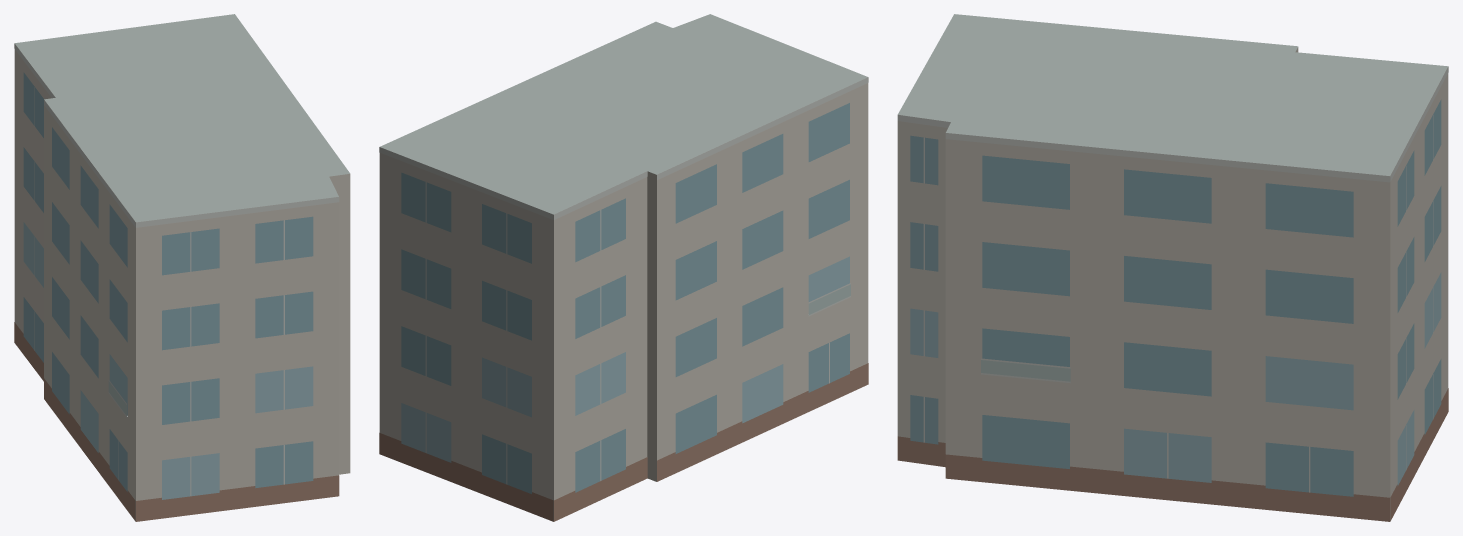
The model's file is survey-upis-32857716.glb.
3 views of the same model, side by side, from view 1: azimuth 30°, elevation 25°; view 2: azimuth 150°, elevation 25°; view 3: azimuth 270°, elevation 25° (orthographic). The views are drawn at different scales.
Parts seen in each view (by area): view 1: survey-upis-32857716.tmp; view 2: survey-upis-32857716.tmp; view 3: survey-upis-32857716.tmp.
Boxes of the visible parts, left/top/right/bottom form: survey-upis-32857716.tmp: left=14, top=14, right=350, bottom=521; survey-upis-32857716.tmp: left=379, top=14, right=868, bottom=521; survey-upis-32857716.tmp: left=897, top=14, right=1448, bottom=521.
Size of the model in its own units: 13.54 by 13.45 by 19.43.
